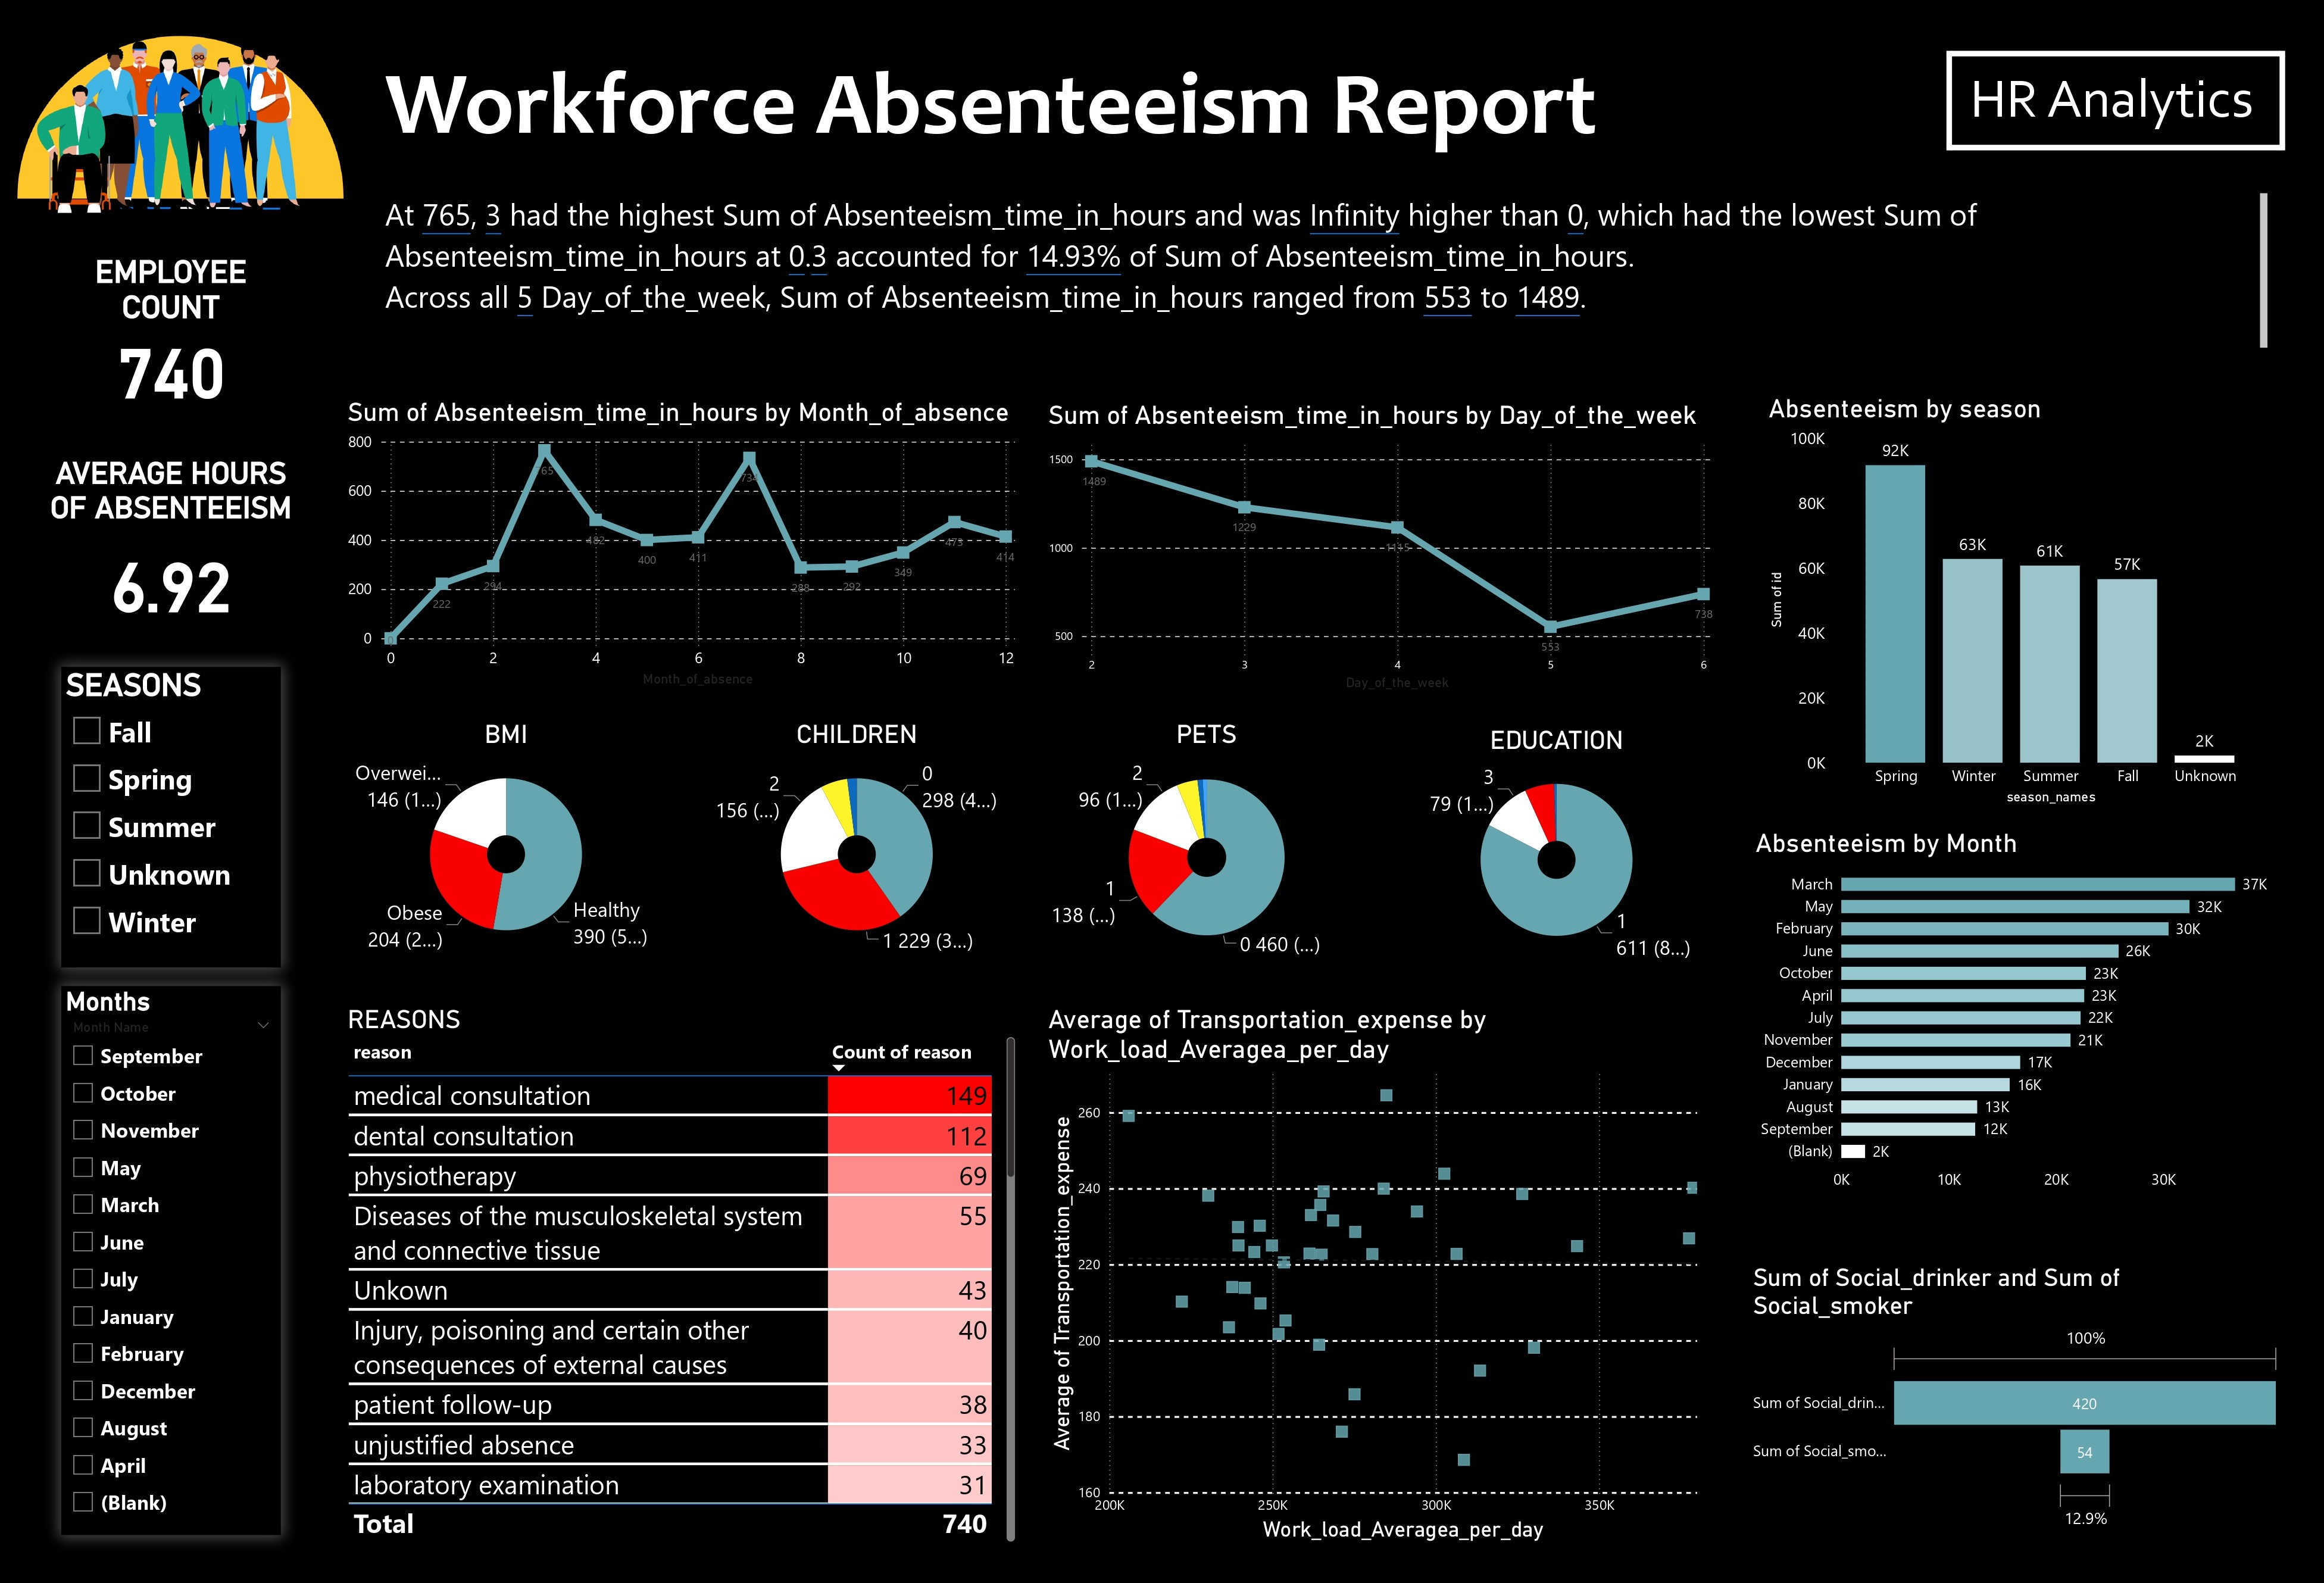

This screenshot's page, from the dashboard's own definition file:
{"tool":"powerbi","page":{"name":"Page 1","canvas":[1580,1700],"ordinal":0},"visuals":[{"type":"donutChart","title":"BMI","fields":{"Category":["Query1.BMI_Category"],"Y":["CountNonNull(Query1.BMI_Category)"]},"box":[69.9,767.7,350,260],"z":0},{"type":"card","title":"AVERAGE HOURS OF ABSENTEEISM","fields":{"Values":["Avg(Query1.Absenteeism_time_in_hours)"]},"box":[225.8,222.5,225,180],"z":1000},{"type":"donutChart","title":"CHILDREN","fields":{"Category":["Query1.Son"],"Y":["CountNonNull(Query1.id)"]},"box":[452.4,767.7,350,260],"z":2000},{"type":"donutChart","title":"PETS","fields":{"Category":["Query1.Pet"],"Y":["Count(Query1.id)"]},"box":[794.9,765.2,350,260],"z":3000},{"type":"donutChart","title":"EDUCATION","fields":{"Category":["Query1.Education"],"Y":["Count(Query1.id)"]},"box":[1157.4,770.2,350,260],"z":4000},{"type":"card","title":"EMPLOYEE COUNT","fields":{"Values":["CountNonNull(Query1.id)"]},"box":[30.8,225,175,155],"z":5000},{"type":"scatterChart","fields":{"X":["Query1.Work_load_Averagea_per_day"],"Y":["Avg(Query1.Transportation_expense)"]},"box":[832.4,1069.6,737.5,582.5],"z":6000},{"type":"lineChart","fields":{"Category":["Query1.Month_of_absence"],"Y":["Sum(Query1.Absenteeism_time_in_hours)"]},"box":[267.4,419.6,610,315],"z":7000},{"type":"lineChart","fields":{"Category":["Query1.Day_of_the_week"],"Y":["Sum(Query1.Absenteeism_time_in_hours)"]},"box":[902.4,419.6,610,315],"z":8000},{"type":"tableEx","title":"REASONS","fields":{"Values":["Query1.reason","CountNonNull(Query1.reason)"]},"box":[92.4,1087.1,687.5,565],"z":9000},{"type":"textbox","box":[477.5,222.5,1055,157.5],"z":10000},{"type":"slicer","title":"SEASONS","fields":{"Values":["Query1.season_names"]},"box":[12.4,439.6,237.5,292.5],"z":11000},{"type":"textbox","box":[266.7,60,1313.3,128.3],"z":12000},{"type":"shape","box":[200.7,222.1,7.5,167.5],"z":13000},{"type":"image","box":[45,22.5,235,165],"z":14000}]}

Visuals, with their boxes on the page's 1580x1700 design canvas (x1, y1, x2, y2). These are canvas units, not pixel positions in the 2324x1583 screenshot, which may show the page scaled, cropped or inside an application window:
"BMI" donutChart: (70, 768, 420, 1028)
"AVERAGE HOURS OF ABSENTEEISM" card: (226, 222, 451, 402)
"CHILDREN" donutChart: (452, 768, 802, 1028)
"PETS" donutChart: (795, 765, 1145, 1025)
"EDUCATION" donutChart: (1157, 770, 1507, 1030)
"EMPLOYEE COUNT" card: (31, 225, 206, 380)
scatterChart - Query1.Work_load_Averagea_per_day x Avg(Query1.Transportation_expense): (832, 1070, 1570, 1652)
lineChart - Query1.Month_of_absence x Sum(Query1.Absenteeism_time_in_hours): (267, 420, 877, 735)
lineChart - Query1.Day_of_the_week x Sum(Query1.Absenteeism_time_in_hours): (902, 420, 1512, 735)
"REASONS" tableEx: (92, 1087, 780, 1652)
textbox: (478, 222, 1532, 380)
"SEASONS" slicer: (12, 440, 250, 732)
textbox: (267, 60, 1580, 188)
shape: (201, 222, 208, 390)
image: (45, 22, 280, 188)
